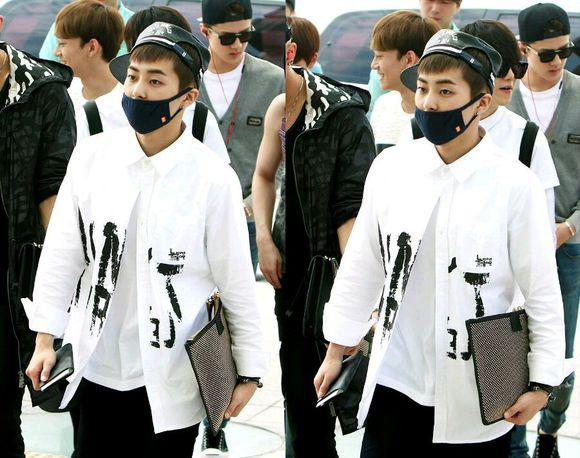NONE: (480, 53, 524, 108), (55, 37, 98, 78), (530, 38, 568, 83), (373, 48, 409, 90), (215, 22, 250, 62), (421, 1, 457, 32)
WRONG: (120, 62, 189, 131), (416, 75, 480, 141)
